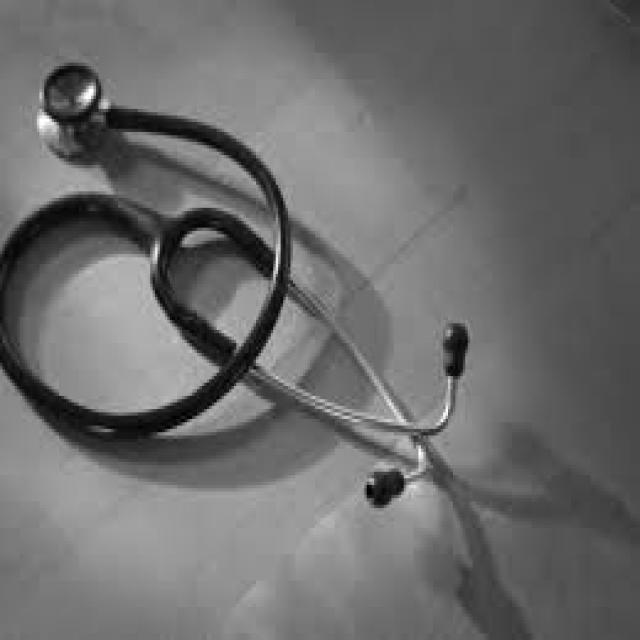stethoscope: (27, 44, 530, 537)
